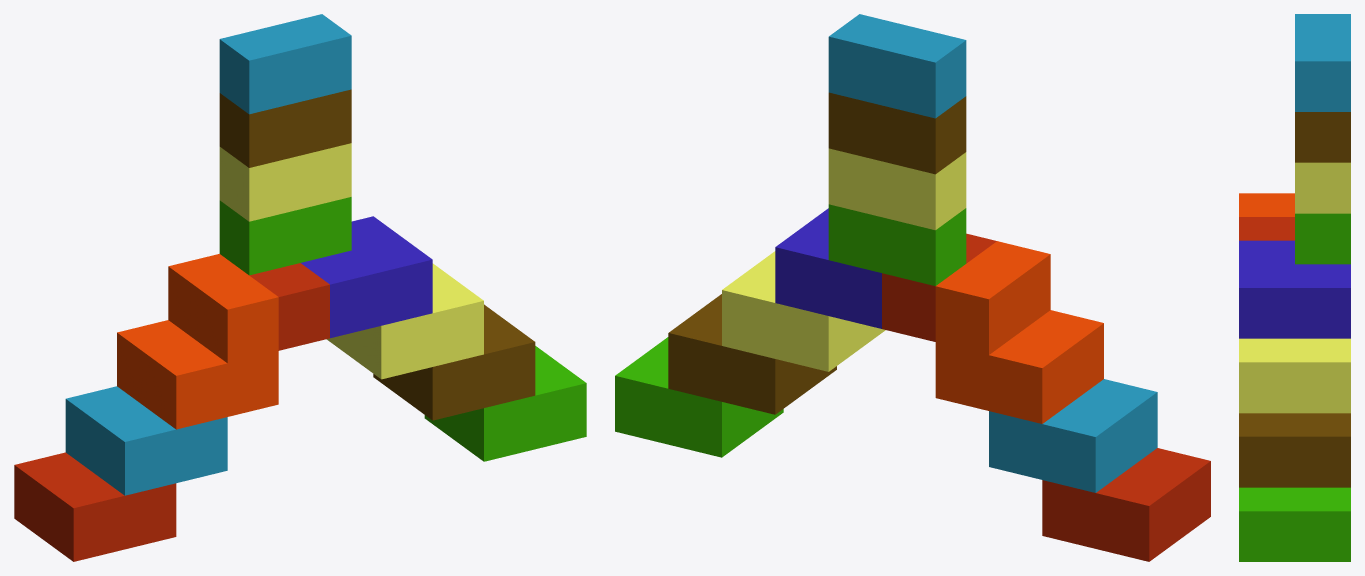
3 renders of one model, left to right at view 1: azimuth 30°, elevation 25°; view 2: azimuth 150°, elevation 25°; view 3: azimuth 270°, elevation 25°, orthographic. The views are drawn at different scales.
Parts seen in each view (by area): view 1: Null_3, Null_2, Null_6, Null_5, Null_4, Null, Null_1; view 2: Null_3, Null_2, Null_4, Null_5, Null, Null_6, Null_1; view 3: Null, Null_5, Null_4, Null_1, Null_3, Null_6, Null_2.
Boxes of the visible parts, box(x1,y1,x2,y2) form: Null_3: box(65, 14, 351, 495); Null_2: box(117, 254, 278, 429); Null_6: box(14, 263, 329, 561); Null_5: box(219, 197, 586, 461); Null_4: box(219, 89, 535, 420); Null: box(219, 143, 483, 379); Null_1: box(301, 216, 432, 338); Null_3: box(828, 14, 1157, 492); Null_2: box(935, 241, 1103, 423); Null_4: box(668, 92, 966, 414); Null_5: box(615, 204, 966, 457); Null: box(722, 148, 966, 371); Null_6: box(882, 233, 1210, 561); Null_1: box(775, 208, 881, 328); Null: box(1239, 162, 1350, 413); Null_5: box(1239, 213, 1350, 561); Null_4: box(1239, 112, 1350, 487); Null_1: box(1239, 240, 1350, 338); Null_3: box(1295, 14, 1350, 111); Null_6: box(1239, 217, 1294, 240); Null_2: box(1239, 193, 1294, 216).
Bounding box in the file's own units: 1000 × 800 × 200.
